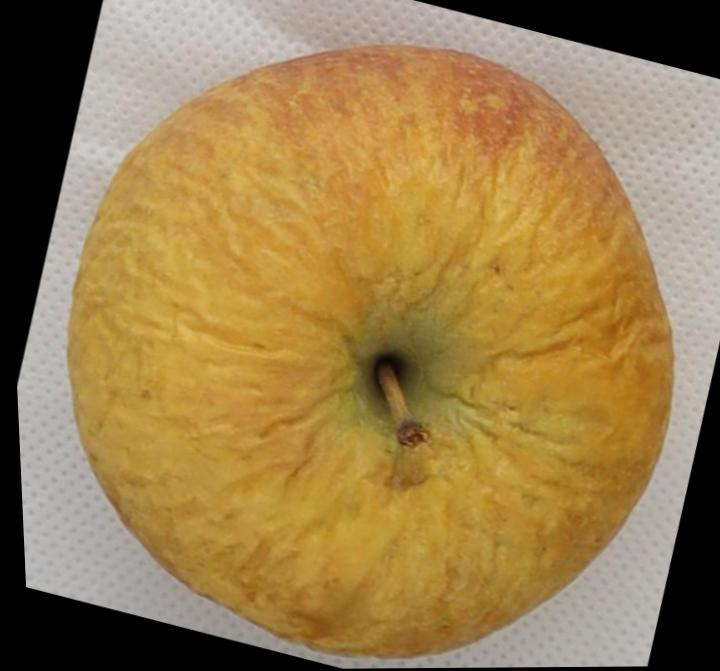apple: (68, 44, 673, 656)
rot_mold_decay: (68, 96, 670, 655)
